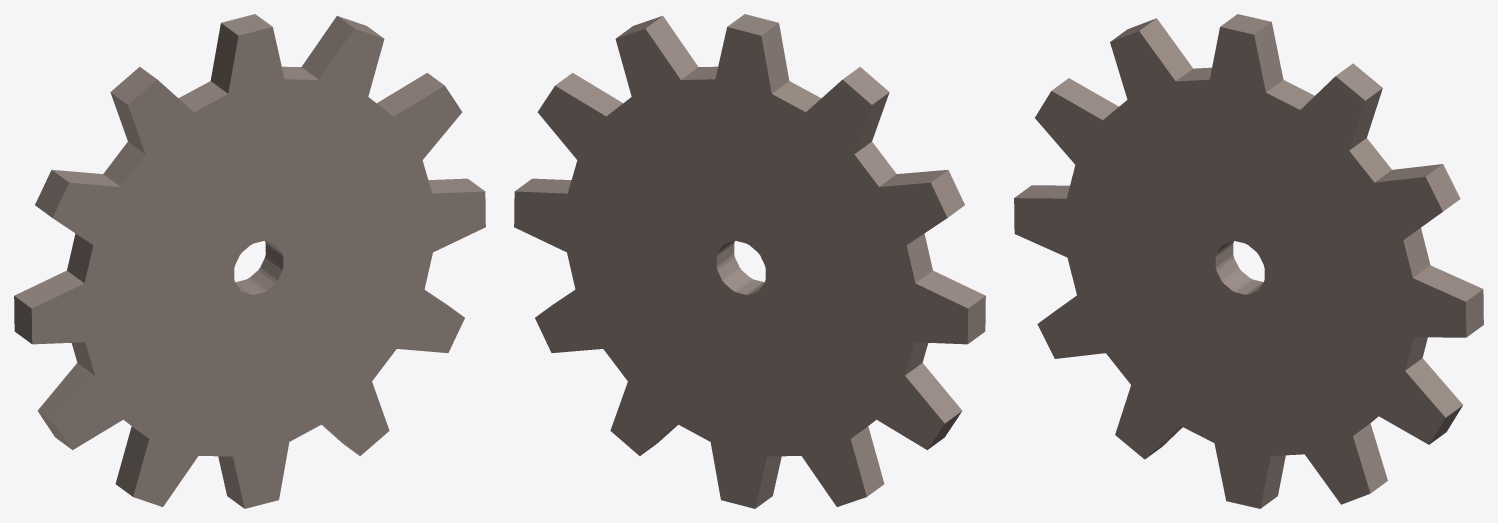
The model's file is puzzle_gear4.fbx.
3 views of the same model, side by side, from view 1: azimuth 30°, elevation 25°; view 2: azimuth 150°, elevation 25°; view 3: azimuth 330°, elevation 25° (orthographic).
Visible parts, largest first — view 1: Cylinder.027; view 2: Cylinder.027; view 3: Cylinder.027.
Part boxes in pixels (x1,y1,x2,y2): Cylinder.027: (14,14,485,508); Cylinder.027: (514,14,985,508); Cylinder.027: (1014,14,1483,508).
Size of the model in its own units: 422 by 422 by 28.4.
